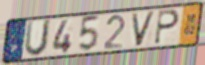2: (103, 13, 127, 50)
4: (51, 18, 73, 55)
5: (77, 14, 103, 54)
P: (153, 9, 181, 46)
U: (23, 18, 53, 58)
V: (130, 11, 157, 48)
